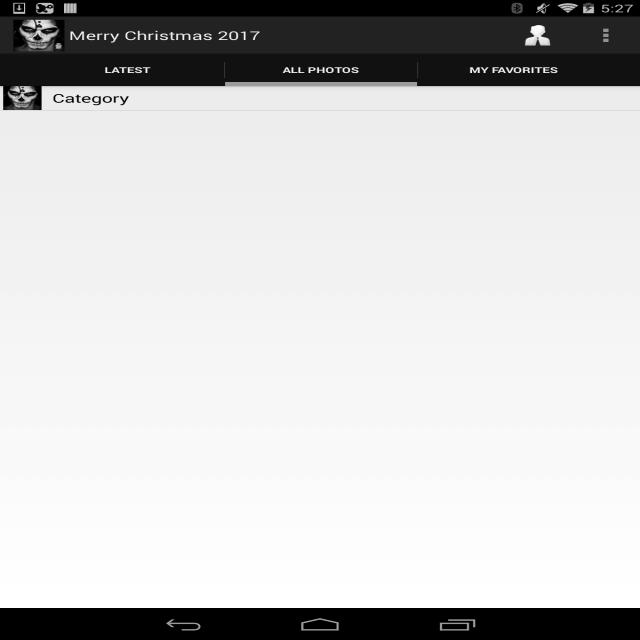ImageView: (14, 19, 64, 52), (3, 86, 42, 110)
TextView: (69, 27, 261, 43), (571, 16, 640, 54), (503, 17, 572, 54), (52, 90, 130, 106), (469, 64, 558, 76), (282, 64, 360, 76), (104, 64, 151, 76)
